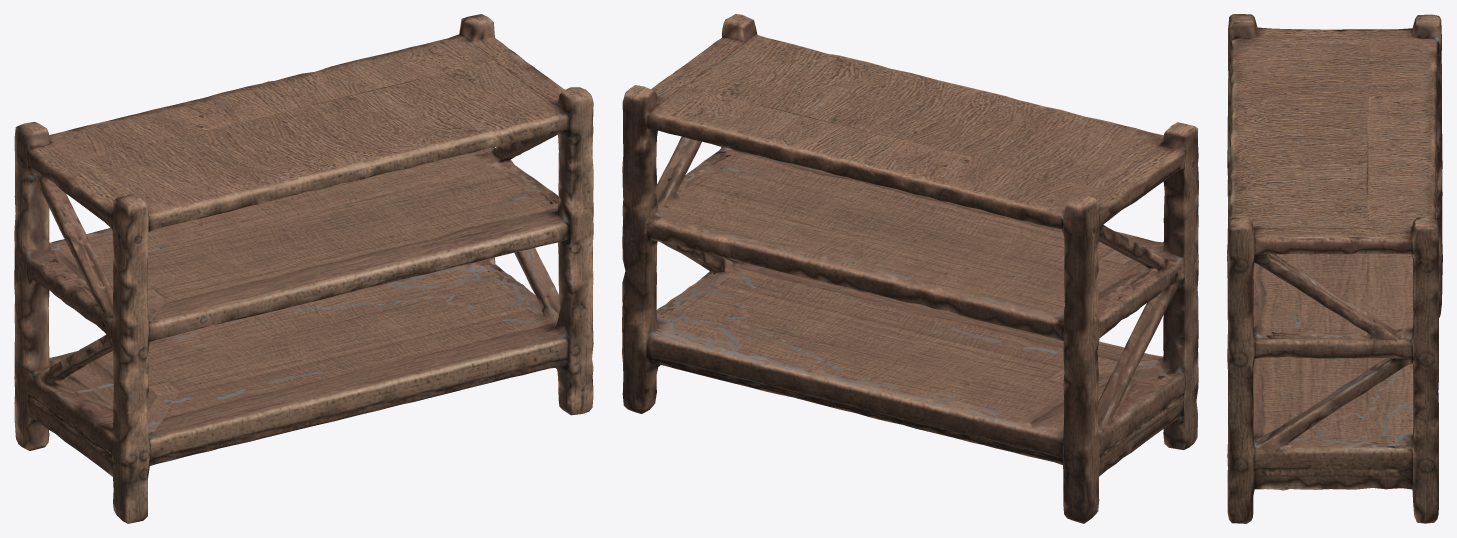
The model's file is ArchiveShelf.fbx.
3 renders of one model, left to right at view 1: azimuth 30°, elevation 25°; view 2: azimuth 150°, elevation 25°; view 3: azimuth 270°, elevation 25°, orthographic. The views are drawn at different scales.
Parts seen in each view (by area): view 1: ArchiveShelf.001; view 2: ArchiveShelf.001; view 3: ArchiveShelf.001.
Boxes of the visible parts, bbox=[...] form: ArchiveShelf.001: bbox=[14, 14, 593, 523]; ArchiveShelf.001: bbox=[622, 14, 1198, 523]; ArchiveShelf.001: bbox=[1227, 14, 1442, 523].
Size of the model in its own units: 324 by 210 by 137.
Materials: 1 (1 with a texture image).
